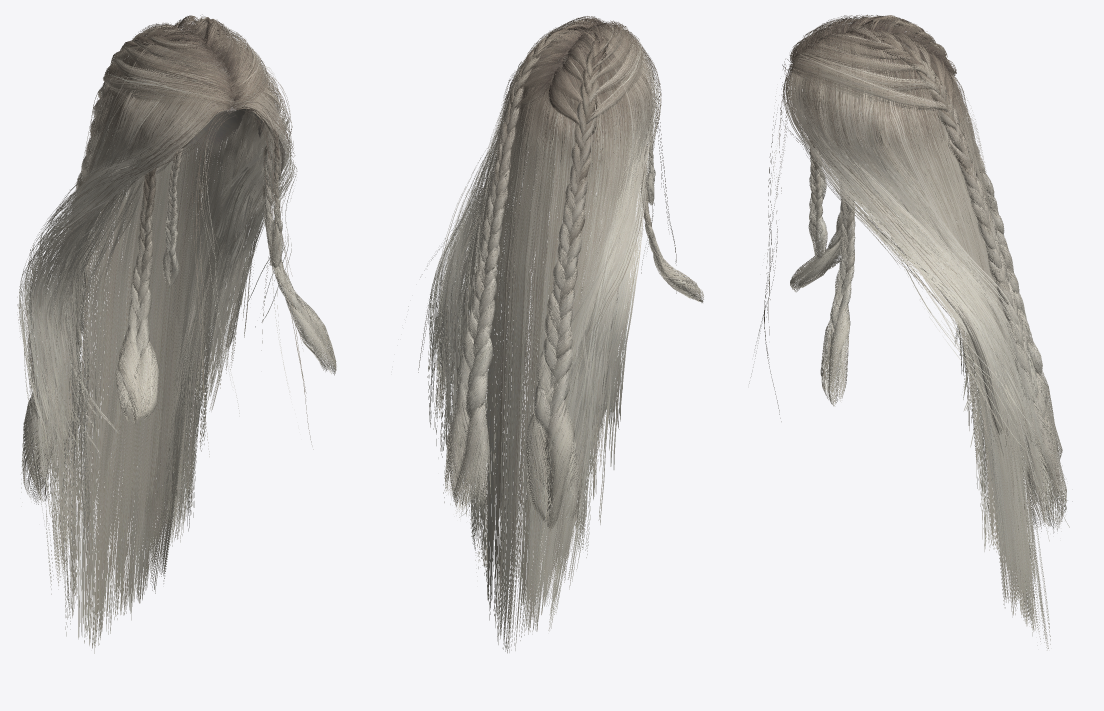
File: dint_hair_16.glb
3 views of the same model, side by side, from view 1: azimuth 30°, elevation 25°; view 2: azimuth 150°, elevation 25°; view 3: azimuth 270°, elevation 25° (orthographic). The views are drawn at different scales.
Visible parts, largest first — view 1: a1_4_a1_4, a1_3_a1_3, a2_4_a2_4, a2_3_a2_3, a4_1_a4_1, a4_3_a4_3, a1_2_a1_2, a3_3_a3_3, a3_1_a3_1, Top2_Top2, a2_1_a2_1, a1_1_a1_1 (+20 smaller); view 2: Braid2_Braid2, a4_3_a4_3, a4_4_a4_4, Braid1_Braid1, a4_1_a4_1, a3_3_a3_3, a3_4_a3_4, a3_1_a3_1, a2_3_a2_3, a2_4_a2_4, a4_2_a4_2, a3_2_a3_2 (+13 smaller); view 3: a4_2_a4_2, a4_4_a4_4, a3_2_a3_2, Braid2_Braid2, a3_4_a3_4, a2_2_a2_2, Top2_Top2, Braid1_Braid1, Top1_Top1, a2_4_a2_4, BrFR2_1_BrFR2_1, a5_3_a5_3 (+11 smaller).
Boxes of the visible parts, x1,y1,x2,y2 form: a1_4_a1_4: (116,109,253,564); a1_3_a1_3: (58,105,159,562); a2_4_a2_4: (100,30,252,613); a2_3_a2_3: (52,46,174,632); a4_1_a4_1: (18,45,230,541); a4_3_a4_3: (44,24,205,644); a1_2_a1_2: (164,49,274,436); a3_3_a3_3: (47,30,205,645); a3_1_a3_1: (19,34,230,525); Top2_Top2: (103,15,268,108); a2_1_a2_1: (24,43,228,514); a1_1_a1_1: (36,82,215,480); Braid2_Braid2: (444,23,608,531); a4_3_a4_3: (508,28,647,650); a4_4_a4_4: (464,22,586,651); Braid1_Braid1: (447,23,607,497); a4_1_a4_1: (526,27,661,547); a3_3_a3_3: (508,31,645,652); a3_4_a3_4: (468,29,583,653); a3_1_a3_1: (520,30,656,521); a2_3_a2_3: (515,37,635,623); a2_4_a2_4: (476,32,585,609); a4_2_a4_2: (428,18,607,515); a3_2_a3_2: (427,26,603,483); a4_2_a4_2: (783,33,1064,520); a4_4_a4_4: (852,31,1050,648); a3_2_a3_2: (786,40,1052,497); Braid2_Braid2: (845,15,1066,531); a3_4_a3_4: (858,36,1048,650); a2_2_a2_2: (786,42,1043,518); Top2_Top2: (789,15,956,111); Braid1_Braid1: (846,16,1059,506); Top1_Top1: (791,17,955,114); a2_4_a2_4: (865,48,1032,619); BrFR2_1_BrFR2_1: (820,98,855,406); a5_3_a5_3: (780,33,1037,456).
Size of the model in its own units: 0.3699 by 0.9194 by 0.4322.
39 materials, 39 textured.
